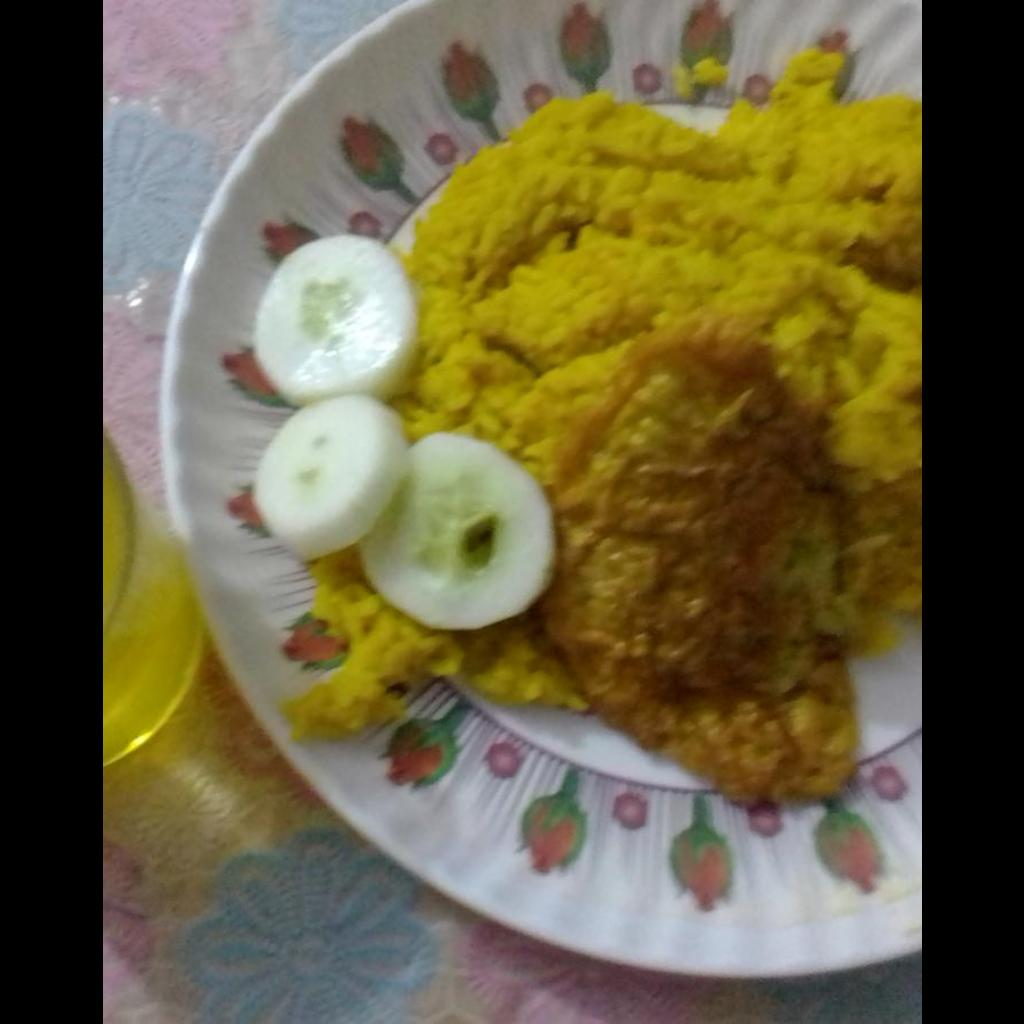cucumber: (248, 236, 558, 628)
egg-poached: (553, 323, 860, 807)
khichuri: (413, 46, 920, 635)
